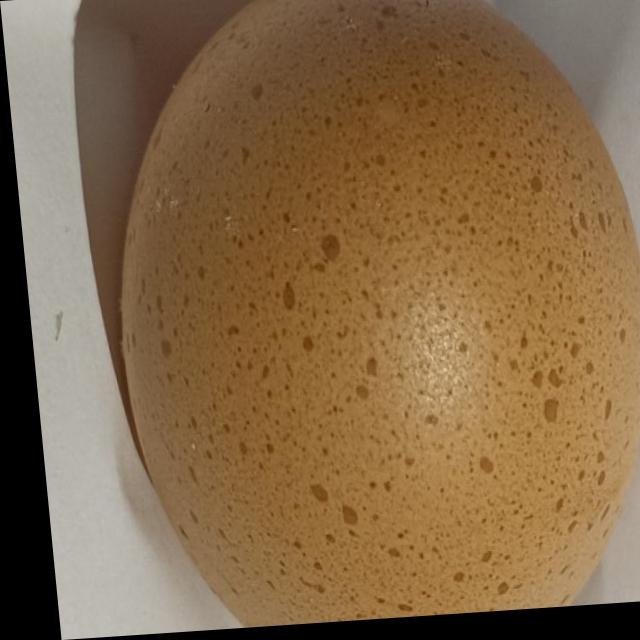unfresh: (73, 0, 640, 636)
